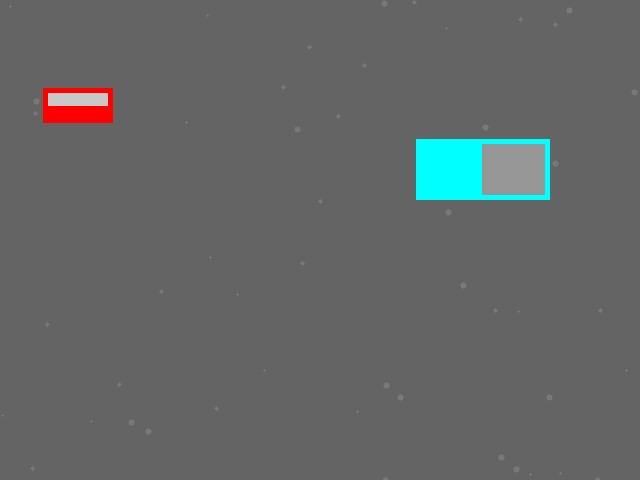car: (43, 88, 112, 122)
truck: (416, 139, 549, 199)
